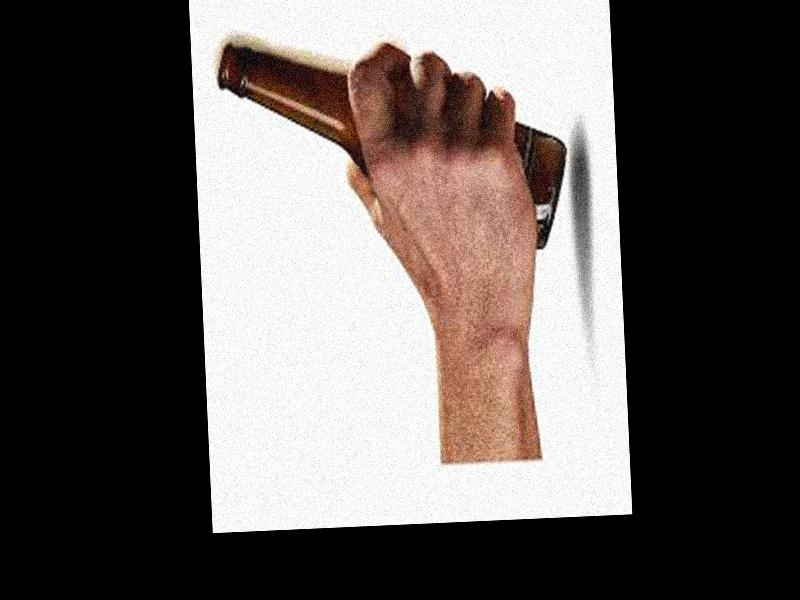Beer: (217, 27, 575, 262)
